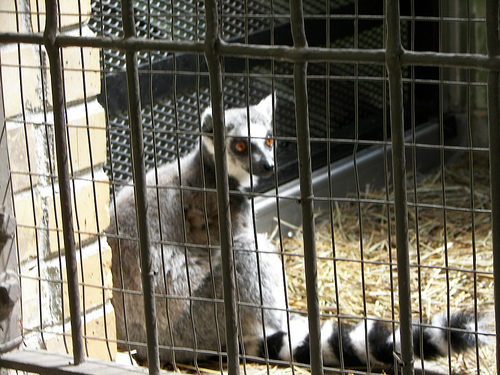cat: (107, 85, 499, 367)
